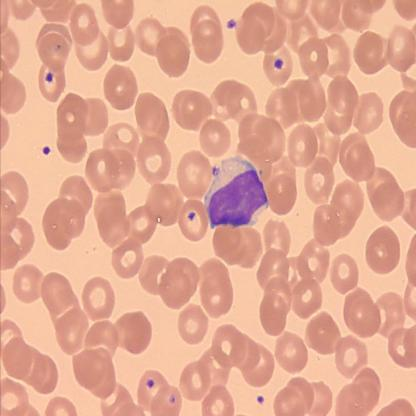Atypical lymphocyte: (204, 155, 268, 228)
